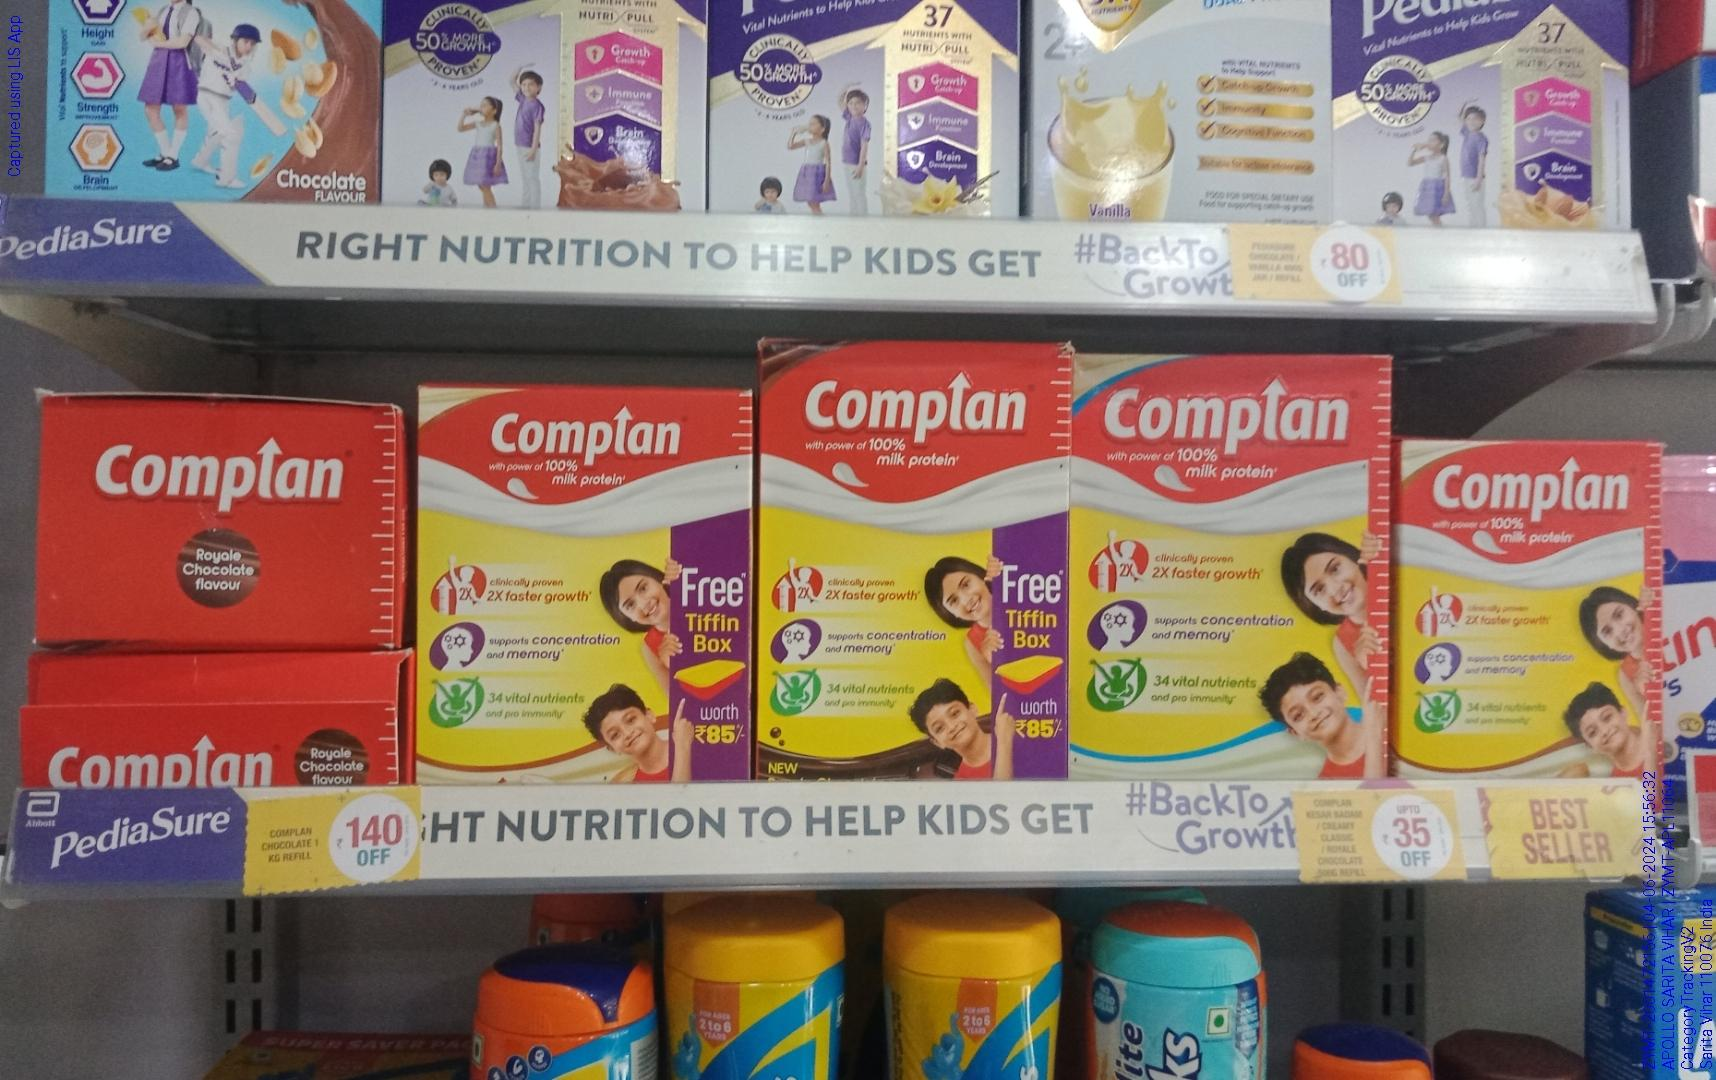COMPLAN_CREAMY_CLASSIC_500_G_PACK: (1075, 347, 1383, 779)
COMPLAN_KESAR_BADAM_200_GMS_PACK: (1405, 438, 1653, 785)
